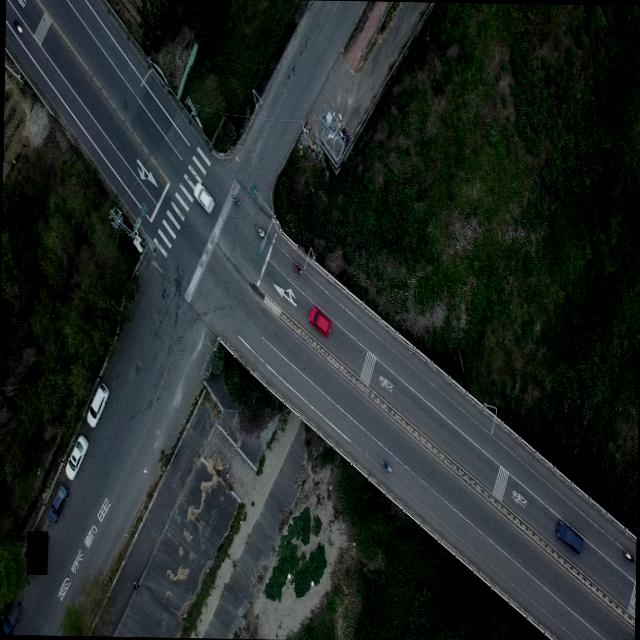bike: (228, 188, 242, 210), (290, 258, 304, 277), (380, 458, 393, 477), (623, 548, 636, 564), (14, 21, 26, 37), (255, 226, 268, 238)
car: (64, 433, 88, 480), (554, 518, 584, 554), (86, 381, 109, 427), (48, 482, 68, 522), (306, 304, 331, 336), (1, 600, 22, 634), (192, 182, 214, 213)
